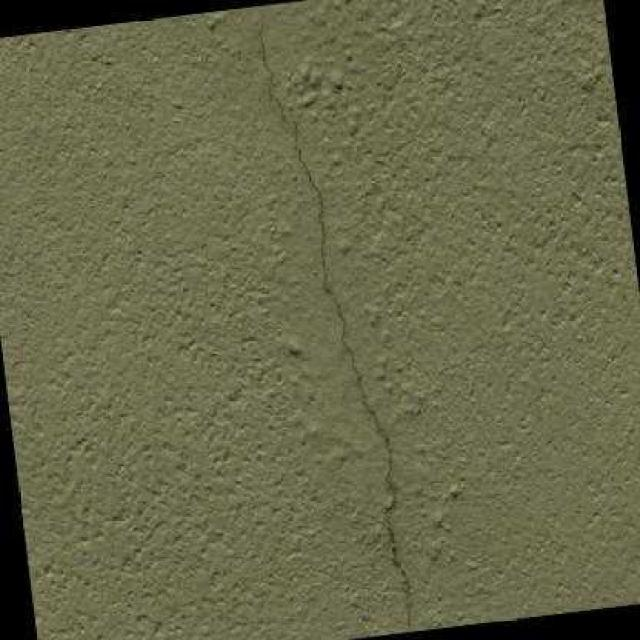D00: (258, 5, 410, 631)
